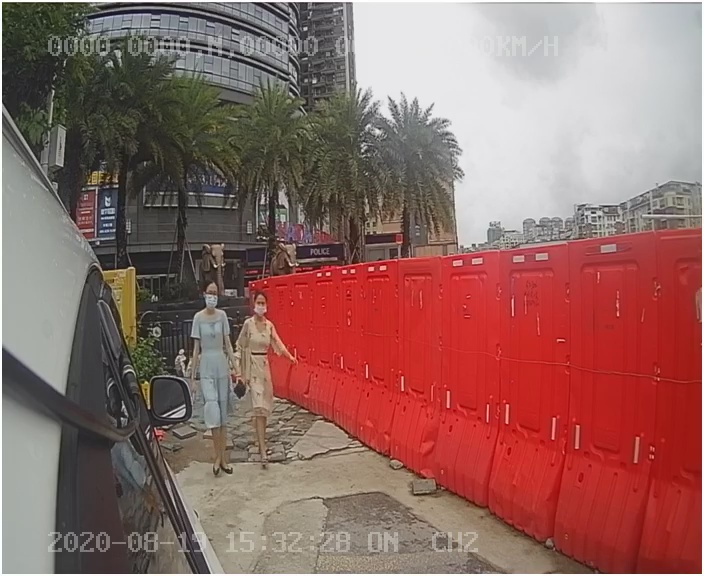person: (230, 295, 321, 477), (182, 288, 258, 483)
